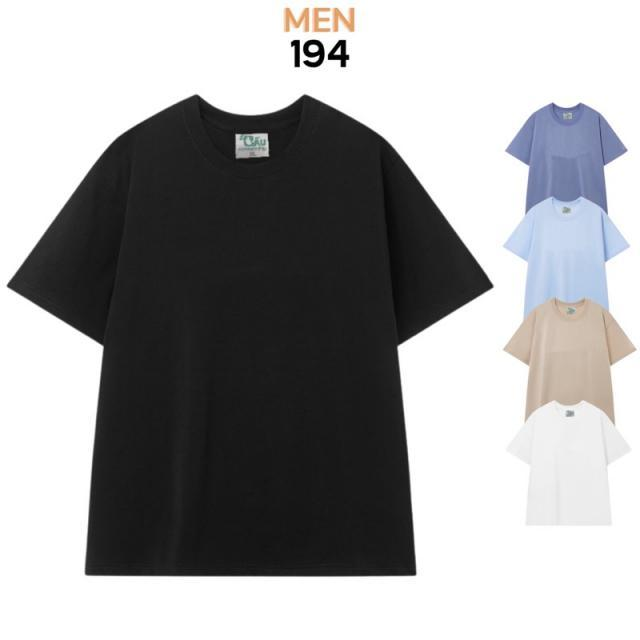Shirt: (9, 94, 494, 576)
